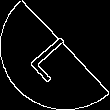L_NE: (25, 27, 85, 83)
